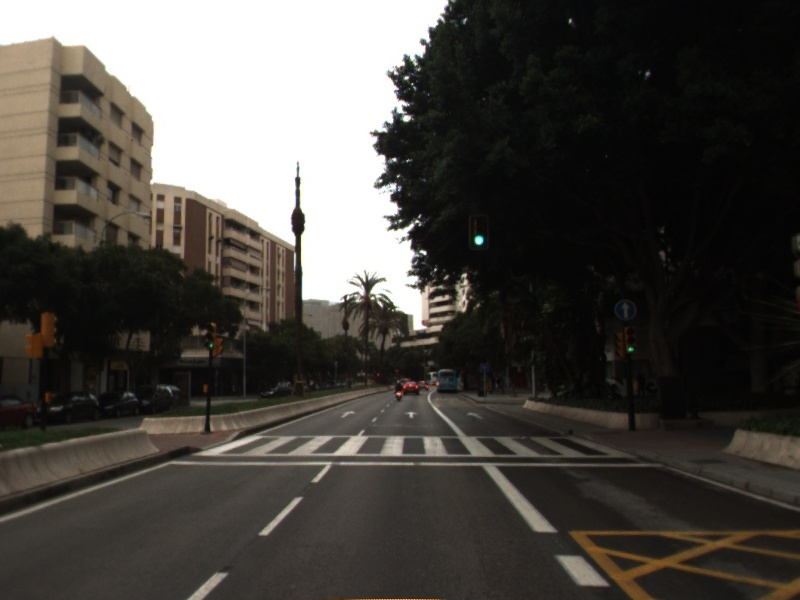STRAIGHT: (465, 410, 486, 422), (338, 409, 358, 420), (402, 409, 421, 420)
